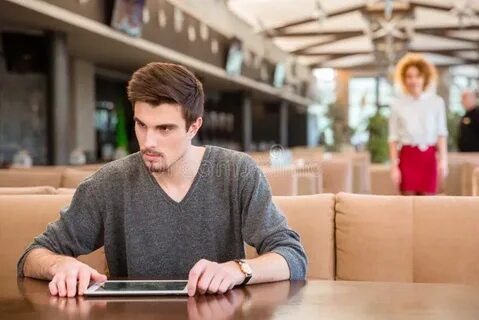awake: (83, 60, 261, 279), (387, 52, 449, 196), (455, 88, 479, 154)
